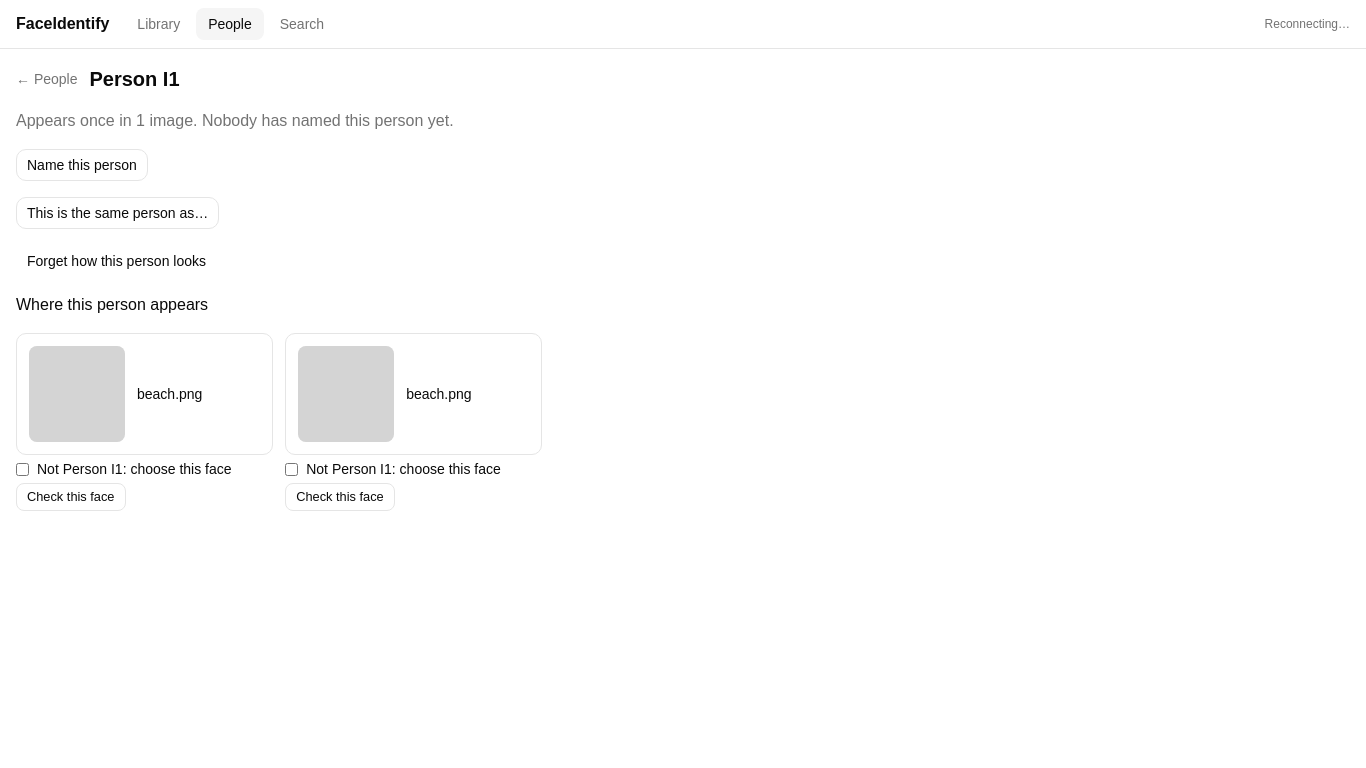
Test: splitting faces off a person › splits the chosen faces into a new person and goes to them
Click the 2nd checkbox labelled "Not Person I1: choose this face" at (292, 469), box [285,462,298,476]
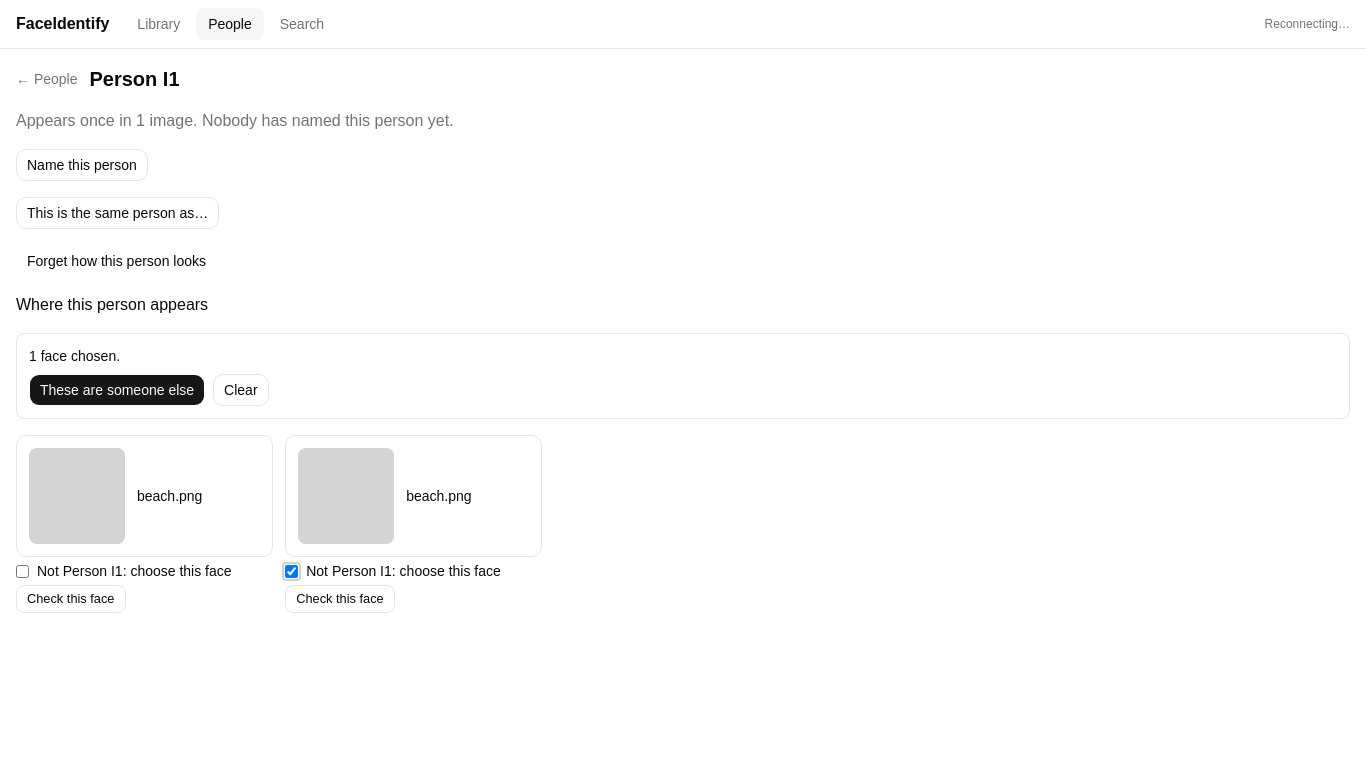
Check: the text "1 face chosen." is shown, box [29,348,120,364]
Click the button "These are someone else" at (117, 390), box [29,374,205,406]
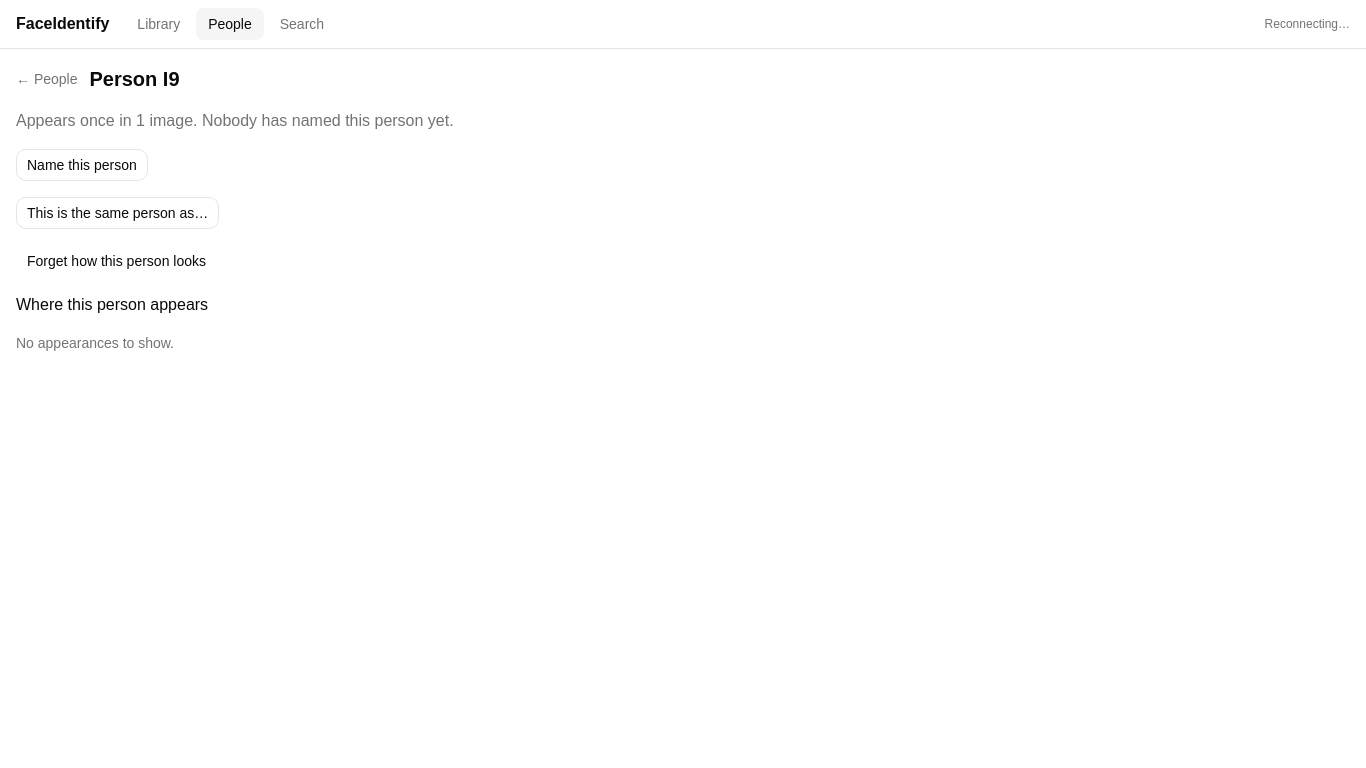
Check: the heading "Person I9" is shown, box [90,65,180,93]
